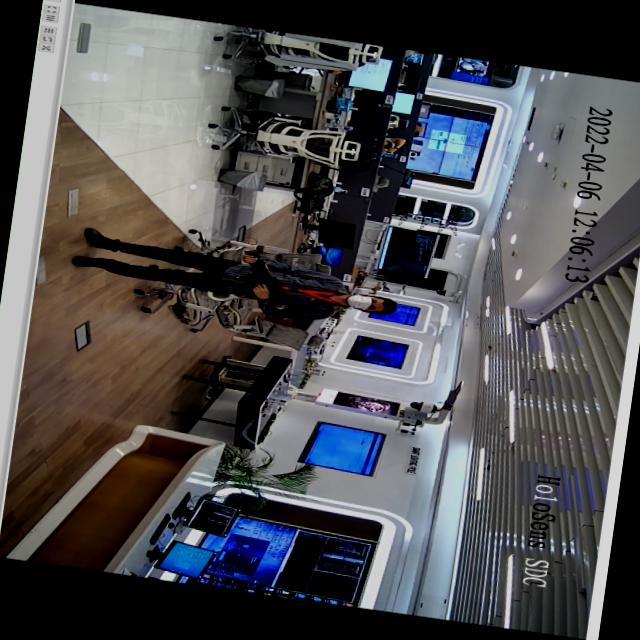long weapon: (214, 242, 298, 328)
